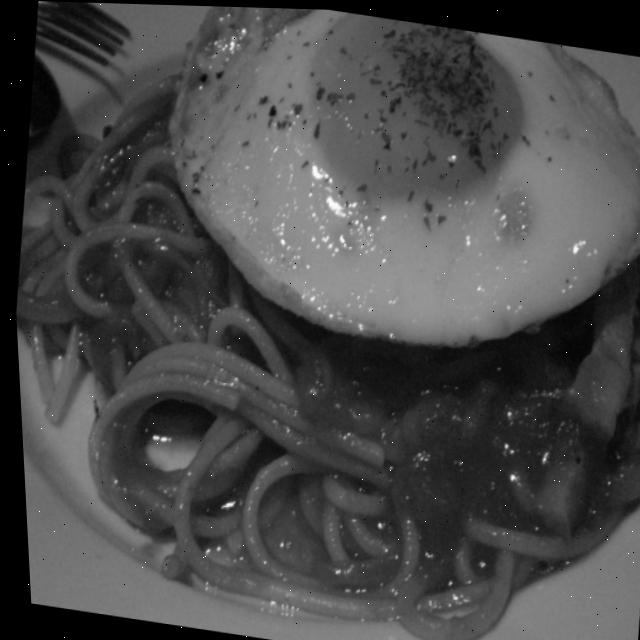鸡蛋料理: (135, 3, 640, 391)
